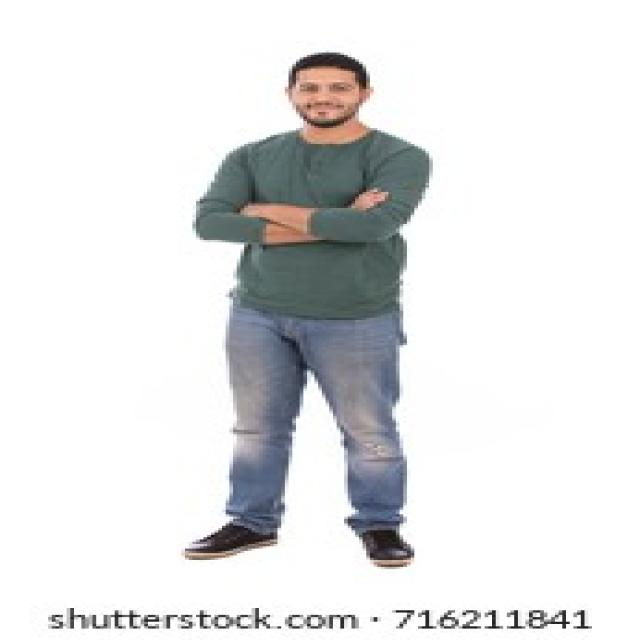standing: (175, 47, 455, 575)
